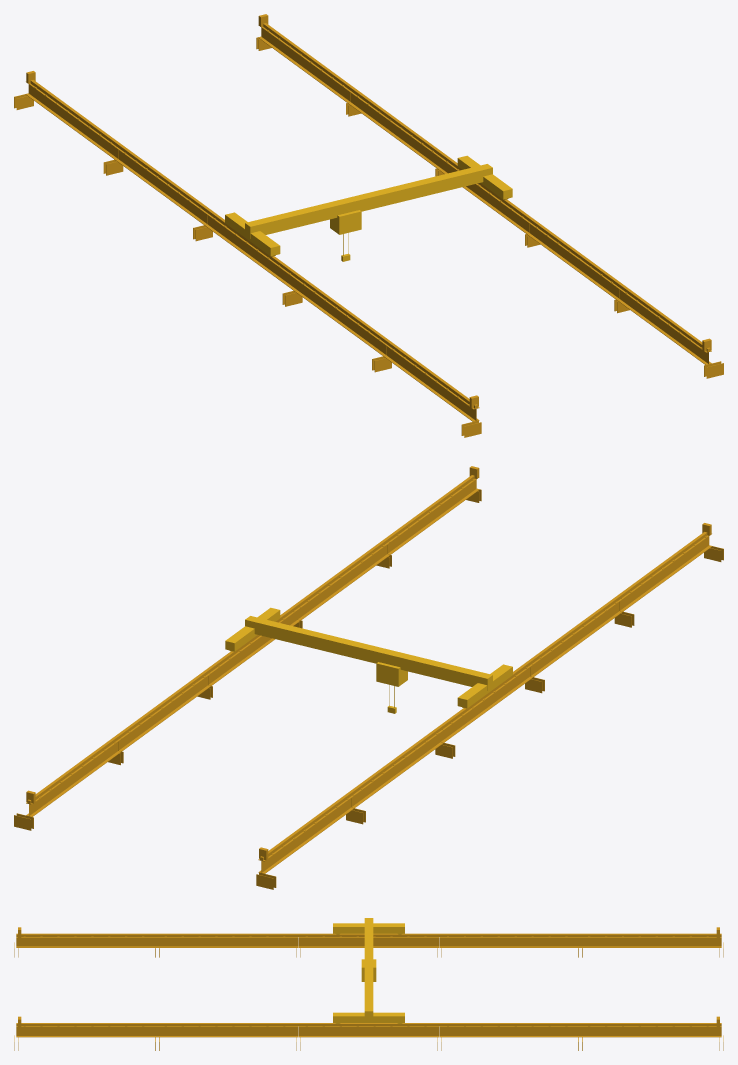
The model's file is crane.glb.
3 views of the same model, one above another, from view 1: azimuth 30°, elevation 25°; view 2: azimuth 150°, elevation 25°; view 3: azimuth 270°, elevation 25° (orthographic). The views are drawn at different scales.
Parts seen in each view (by area): view 1: crane; view 2: crane; view 3: crane.
Boxes of the visible parts, x1,y1,x2,y2 form: crane: (14, 14, 723, 437); crane: (14, 466, 723, 889); crane: (14, 918, 723, 1050).
Size of the model in its own units: 8.37 by 1.83 by 25.16.
